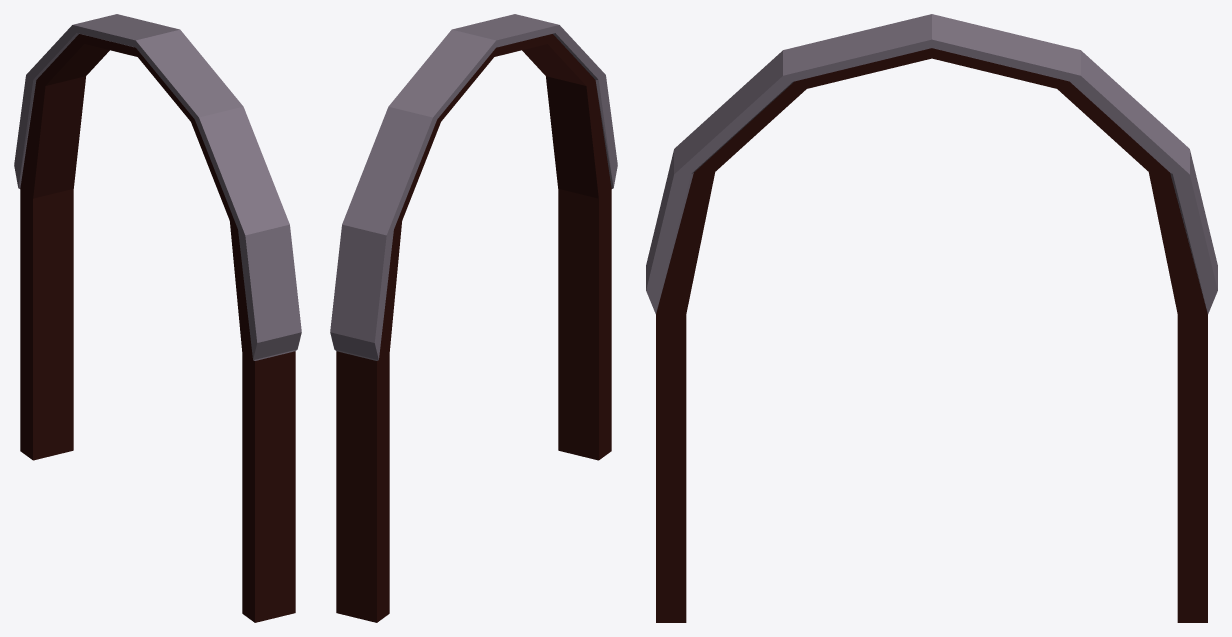
The model's file is brickwall_arch.obj.
The picture shows the model from 3 angles, left to right: view 1: azimuth 30°, elevation 25°; view 2: azimuth 150°, elevation 25°; view 3: azimuth 270°, elevation 25°; orthographic projection. The views are drawn at different scales.
Parts seen in each view (by area): view 1: Brick_Wall_Cube; view 2: Brick_Wall_Cube; view 3: Brick_Wall_Cube.
Part boxes in pixels (<box>): Brick_Wall_Cube: <box>14,14,301,622</box>; Brick_Wall_Cube: <box>330,14,617,622</box>; Brick_Wall_Cube: <box>646,14,1217,622</box>.
Bounding box in the file's own units: 0.2194 × 2.34 × 2.07.
